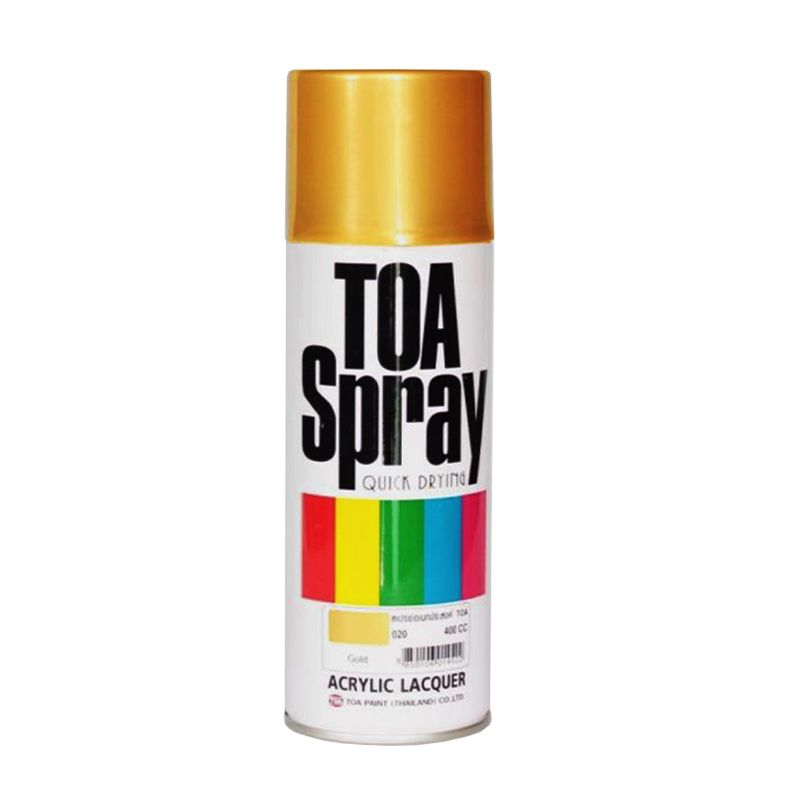Aerosol_cans: (274, 62, 499, 751)
